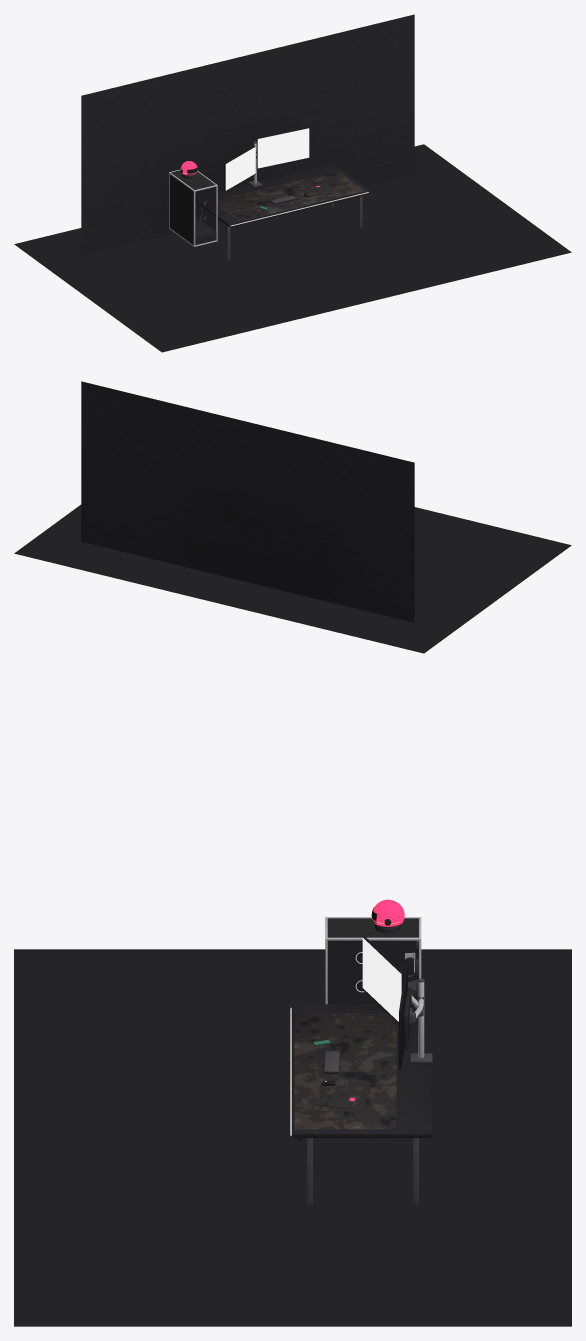
The model's file is setup-v3cc-1k.glb.
3 renders of one model, top to bottom at view 1: azimuth 30°, elevation 25°; view 2: azimuth 150°, elevation 25°; view 3: azimuth 270°, elevation 25°, orthographic. The views are drawn at different scales.
Visible parts, largest first — view 1: Floor, Wall, Deskmat, Desk, ScreenR, CasePanelLeft, CaseGlass, ScreenL, CaseGlassFront; view 2: Wall, Floor; view 3: Floor, Deskmat, Desk, CaseGlassFront, CasePanelLeft, ScreenL, CaseTop.
Boxes of the visible parts, x1,y1,x2,y2 form: Floor: (14, 144, 571, 352); Wall: (81, 14, 414, 255); Deskmat: (212, 171, 364, 221); Desk: (195, 163, 369, 226); ScreenR: (257, 128, 309, 168); CasePanelLeft: (169, 174, 193, 244); CaseGlass: (195, 187, 216, 244); ScreenL: (225, 147, 255, 190); CaseGlassFront: (196, 187, 215, 230); Wall: (81, 381, 414, 622); Floor: (14, 504, 571, 653); Floor: (14, 949, 571, 1326); Deskmat: (294, 1013, 396, 1129); Desk: (292, 1004, 431, 1137); CaseGlassFront: (328, 941, 418, 1003); CasePanelLeft: (327, 940, 418, 1004); ScreenL: (362, 937, 401, 1021); CaseTop: (327, 918, 418, 937).
Size of the model in its own units: 8 by 3.2 by 5.
Materials: 21 (3 with a texture image).
